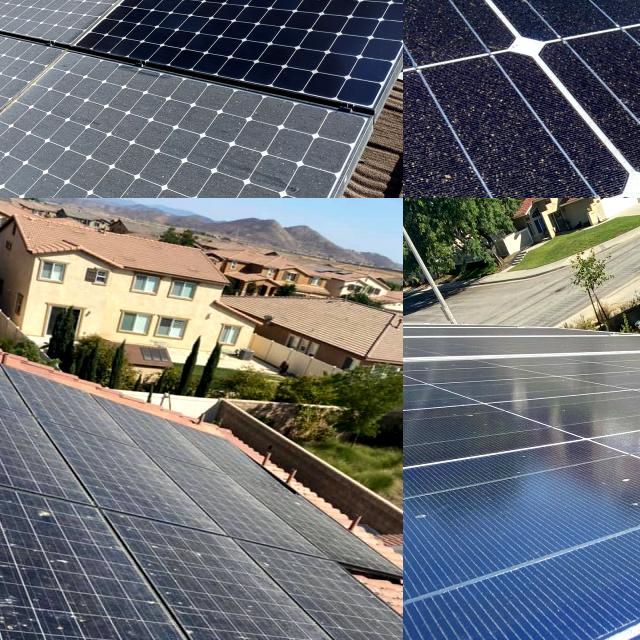bird: (19, 483, 88, 548), (146, 539, 207, 597), (171, 603, 247, 640), (0, 578, 34, 632), (42, 609, 91, 640), (24, 490, 57, 532), (0, 470, 22, 522), (42, 548, 77, 576), (279, 492, 305, 520)
dust: (521, 438, 640, 566), (403, 459, 484, 616), (180, 112, 313, 198), (403, 78, 497, 198), (0, 112, 83, 198), (0, 40, 60, 141), (403, 0, 477, 67), (3, 0, 117, 28), (403, 0, 460, 54)
